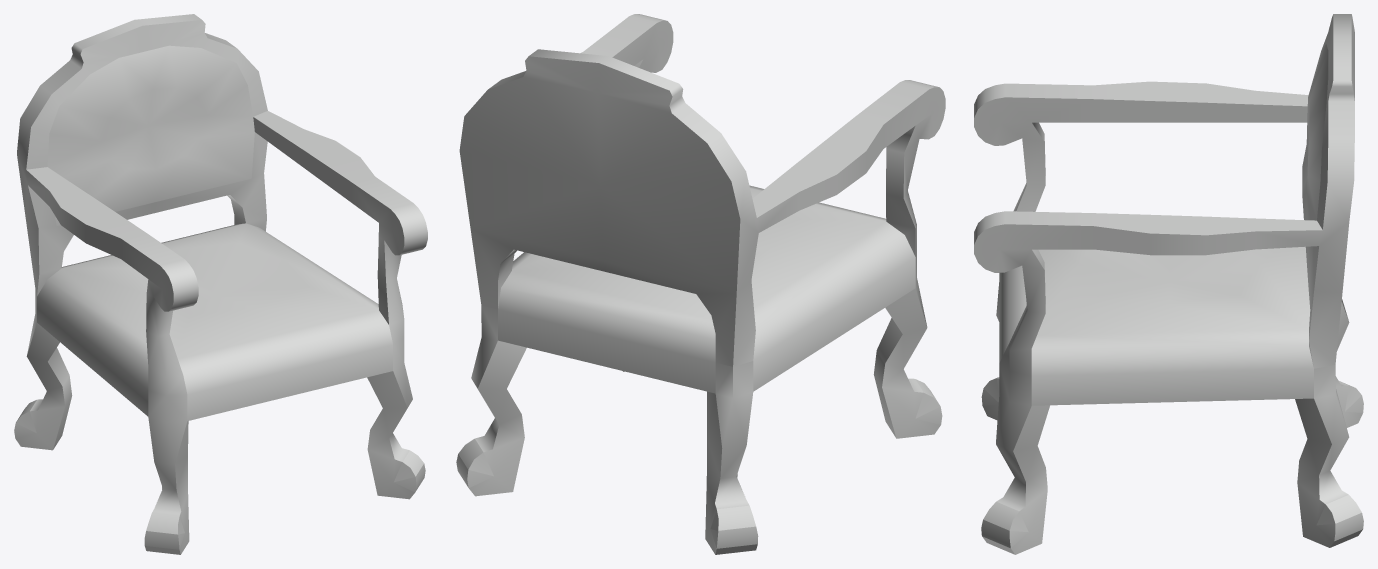
Rendered from armchair_alt_white.dae.
3 renders of one model, left to right at view 1: azimuth 30°, elevation 25°; view 2: azimuth 150°, elevation 25°; view 3: azimuth 270°, elevation 25°, orthographic. The views are drawn at different scales.
Parts seen in each view (by area): view 1: polySurface2; view 2: polySurface2; view 3: polySurface2.
Boxes of the visible parts, box(x1,y1,x2,y2) form: polySurface2: box(14, 14, 427, 554); polySurface2: box(456, 14, 945, 554); polySurface2: box(974, 14, 1363, 554).
Size of the model in its own units: 0.8843 by 1.17 by 0.9366.
Materials: 1 (1 with a texture image).
